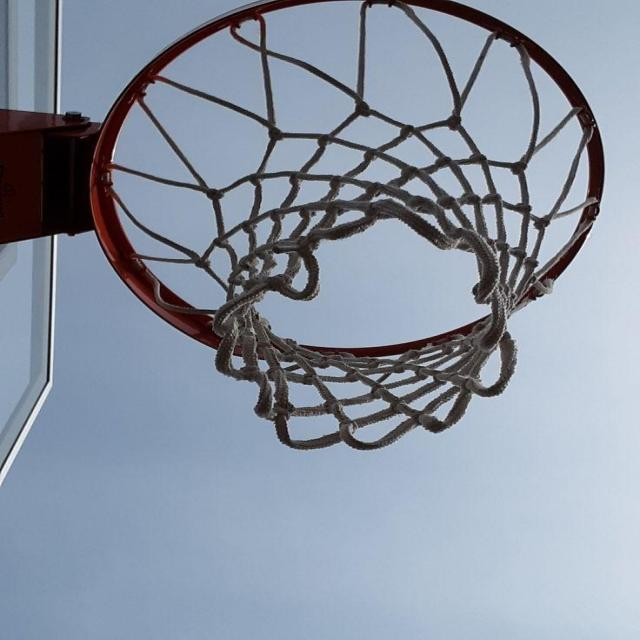hoop: (67, 2, 605, 440), (14, 41, 55, 258)
